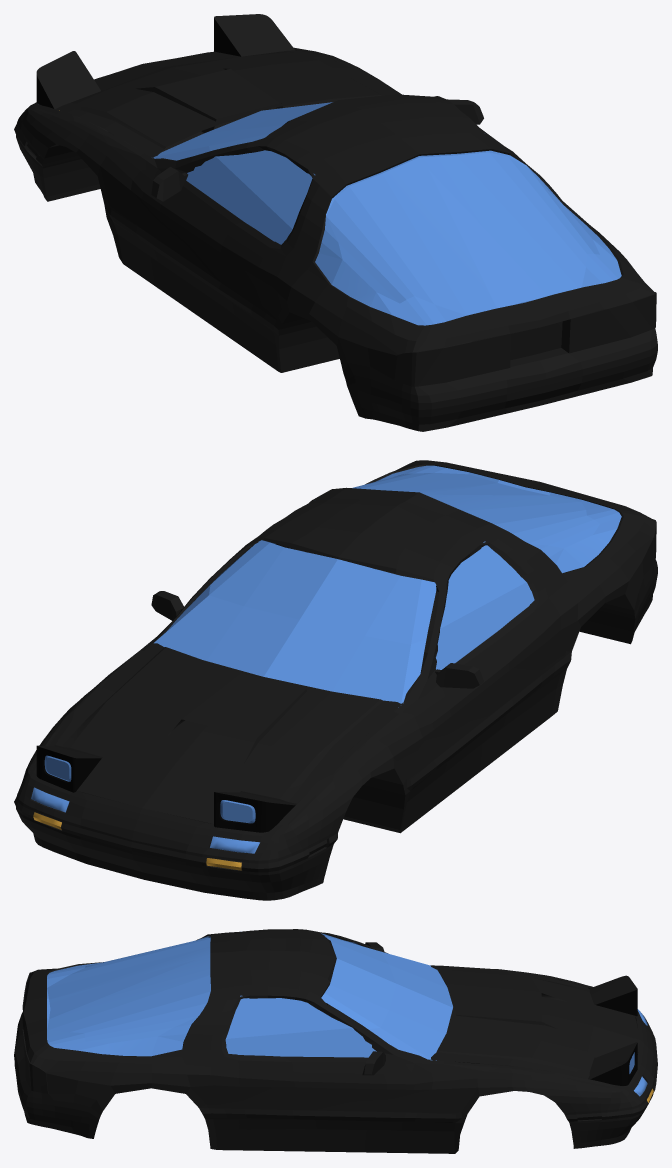
The picture shows the model from 3 angles, top to bottom: view 1: azimuth 30°, elevation 25°; view 2: azimuth 150°, elevation 25°; view 3: azimuth 270°, elevation 25°; orthographic projection. The views are drawn at different scales.
Parts seen in each view (by area): view 1: rx-7, Box010, Box009; view 2: rx-7, Box009, Box010; view 3: rx-7, Box010, Box009.
Boxes of the visible parts, x1,y1,x2,y2 form: rx-7: (14,47,657,431); Box010: (36,14,294,110); Box009: (136,68,282,133); rx-7: (14,460,657,900); Box009: (168,673,306,762); Box010: (36,745,295,832); rx-7: (14,929,657,1153); Box010: (588,975,637,1085); Box009: (455,990,566,1028).
Size of the model in its own units: 17.48 by 9.9 by 38.29.
